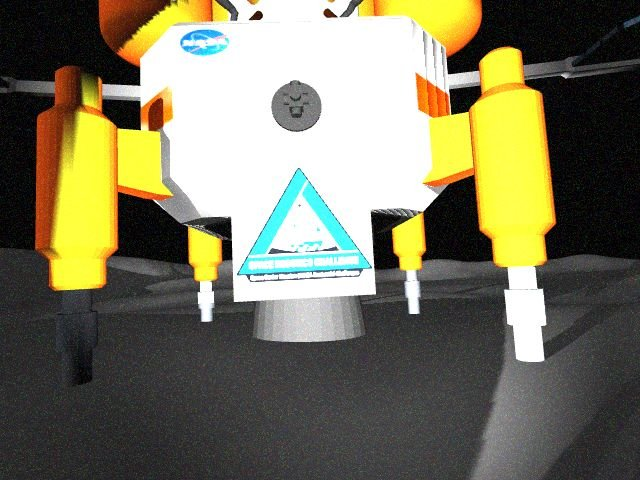basemarker: (234, 166, 374, 282)
